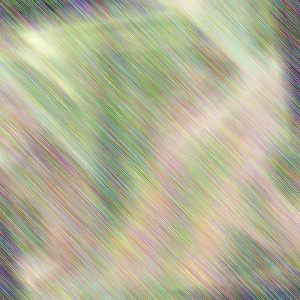Leaf_Blast: (113, 121, 241, 300)
